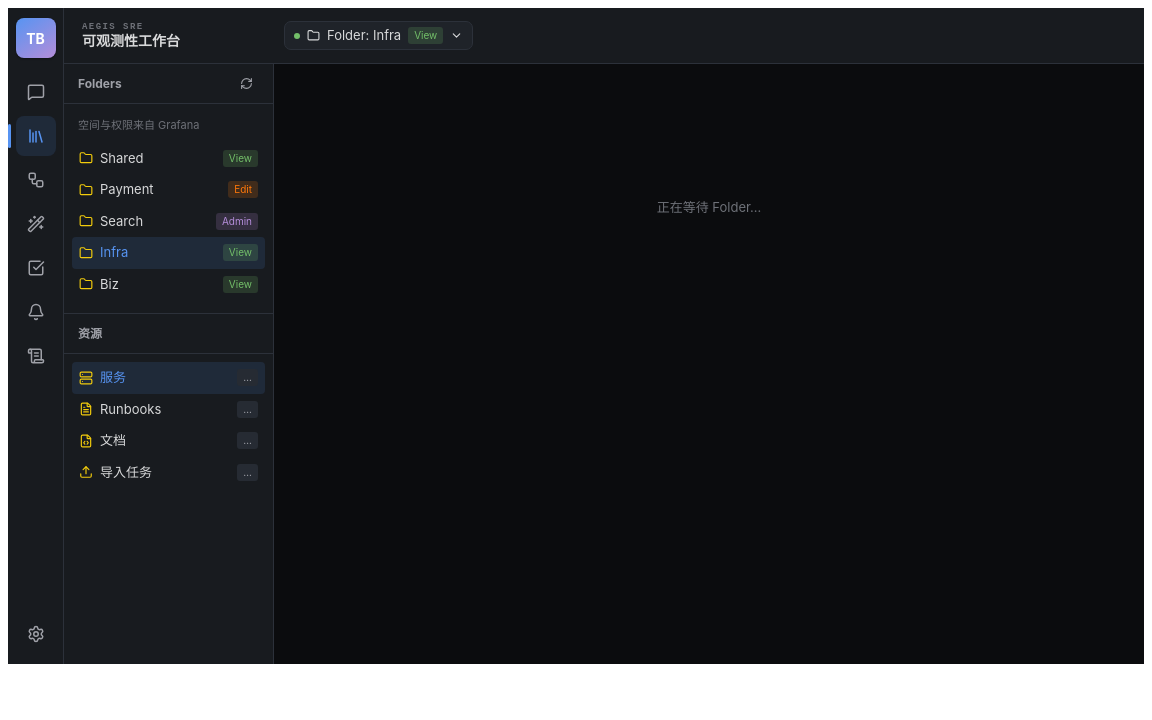
Test: KnowledgePage services › strictly switches data with the selected Folder
The width and height of the screenshot is (1152, 720).
Click the button "Payment Edit": (168, 190) [72,174,265,206]
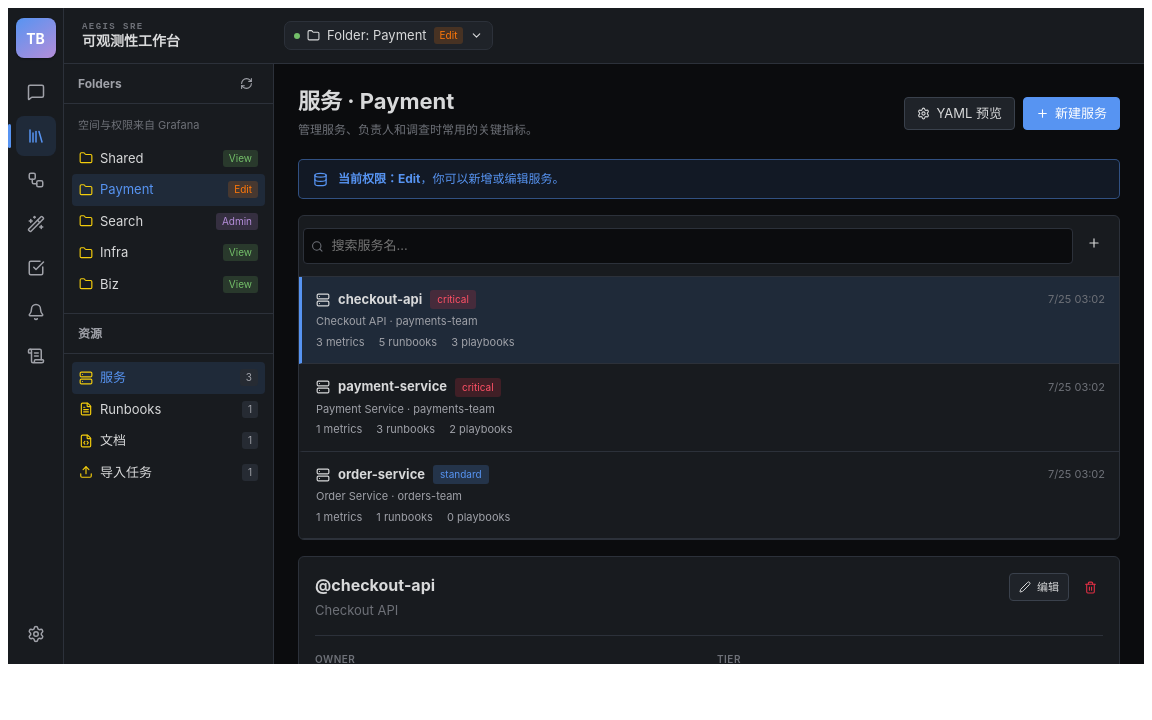
Result: the heading "服务 · Payment" is shown at [298,88,454,114]
Result: the button "新建服务" is enabled at [1023,97,1120,130]
Result: the heading "@checkout-api" is shown at [315,573,435,597]
